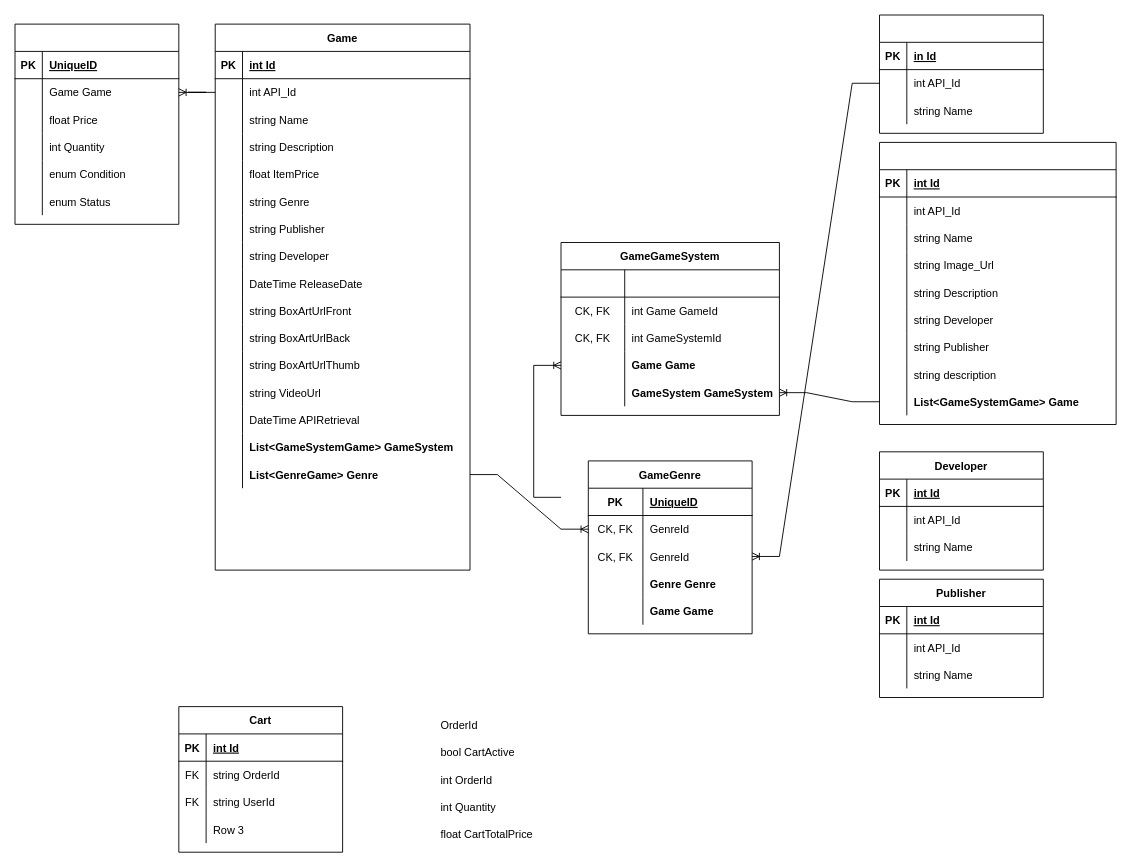
Image size: 1131x867. Some labels were removed from this diagram. The box of each missing label's shape, as (x1, y1, x2, y2) in pixels:
GameSystem: (879, 142, 1116, 425)
Genre: (879, 14, 1043, 133)
Inventory_Item: (14, 23, 179, 224)
